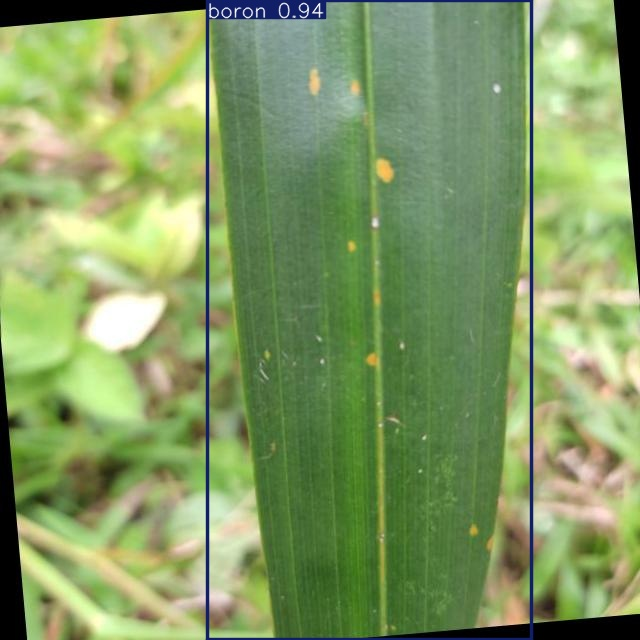nitrogen: (207, 0, 531, 640)
